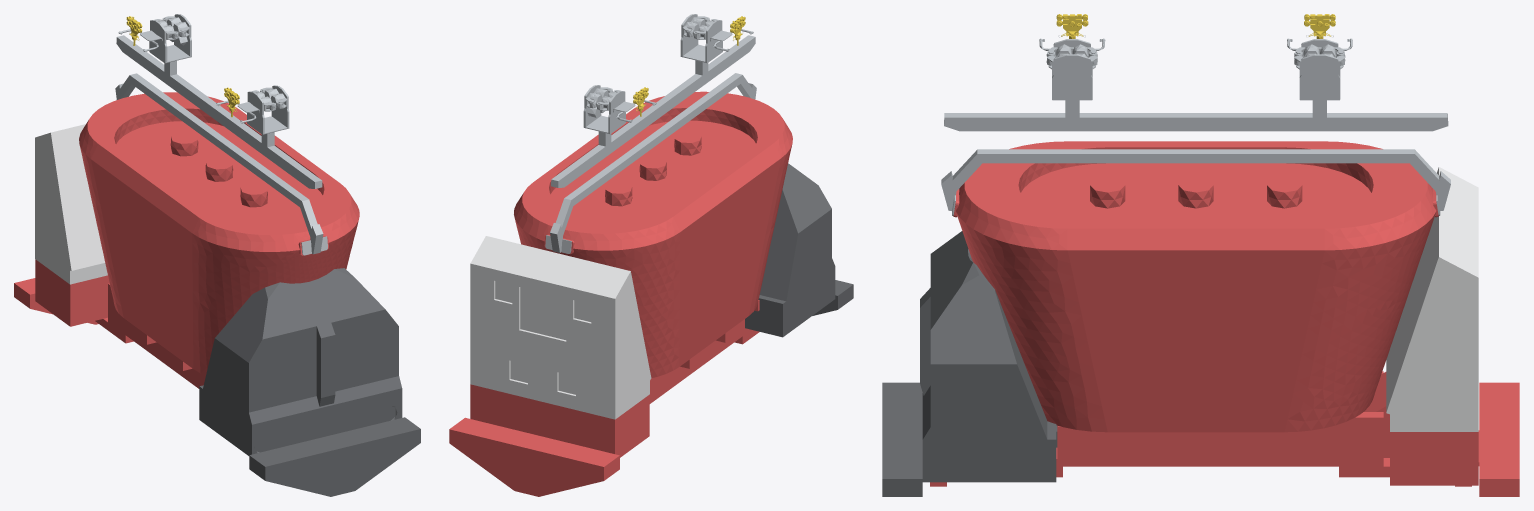
Rendered from triomatic_hp2.glb.
3 renders of one model, left to right at view 1: azimuth 30°, elevation 25°; view 2: azimuth 150°, elevation 25°; view 3: azimuth 270°, elevation 25°, orthographic. The views are drawn at different scales.
Visible parts, largest first — view 1: Triomatic_mengkuip, Triomatic_dwarsband, Triomatic_ophanging, Triomatic_schakelkast, Triomatic_stroomafnemer; view 2: Triomatic_mengkuip, Triomatic_schakelkast, Triomatic_ophanging, Triomatic_dwarsband, Triomatic_stroomafnemer; view 3: Triomatic_mengkuip, Triomatic_dwarsband, Triomatic_ophanging, Triomatic_schakelkast, Triomatic_stroomafnemer.
Part boxes in pixels (x1,y1,x2,y2): Triomatic_mengkuip: (14,92,359,388); Triomatic_dwarsband: (199,268,420,496); Triomatic_ophanging: (115,14,327,255); Triomatic_schakelkast: (35,124,107,284); Triomatic_stroomafnemer: (126,16,239,117); Triomatic_mengkuip: (449,91,792,496); Triomatic_schakelkast: (470,236,651,419); Triomatic_ophanging: (545,14,756,253); Triomatic_dwarsband: (745,163,853,337); Triomatic_stroomafnemer: (633,16,745,116); Triomatic_mengkuip: (930,141,1519,496); Triomatic_dwarsband: (882,231,1057,496); Triomatic_ophanging: (941,35,1450,215); Triomatic_schakelkast: (1386,167,1478,431); Triomatic_stroomafnemer: (1056,14,1335,38).
Size of the model in its own units: 1.29 by 2.83 by 3.6.
